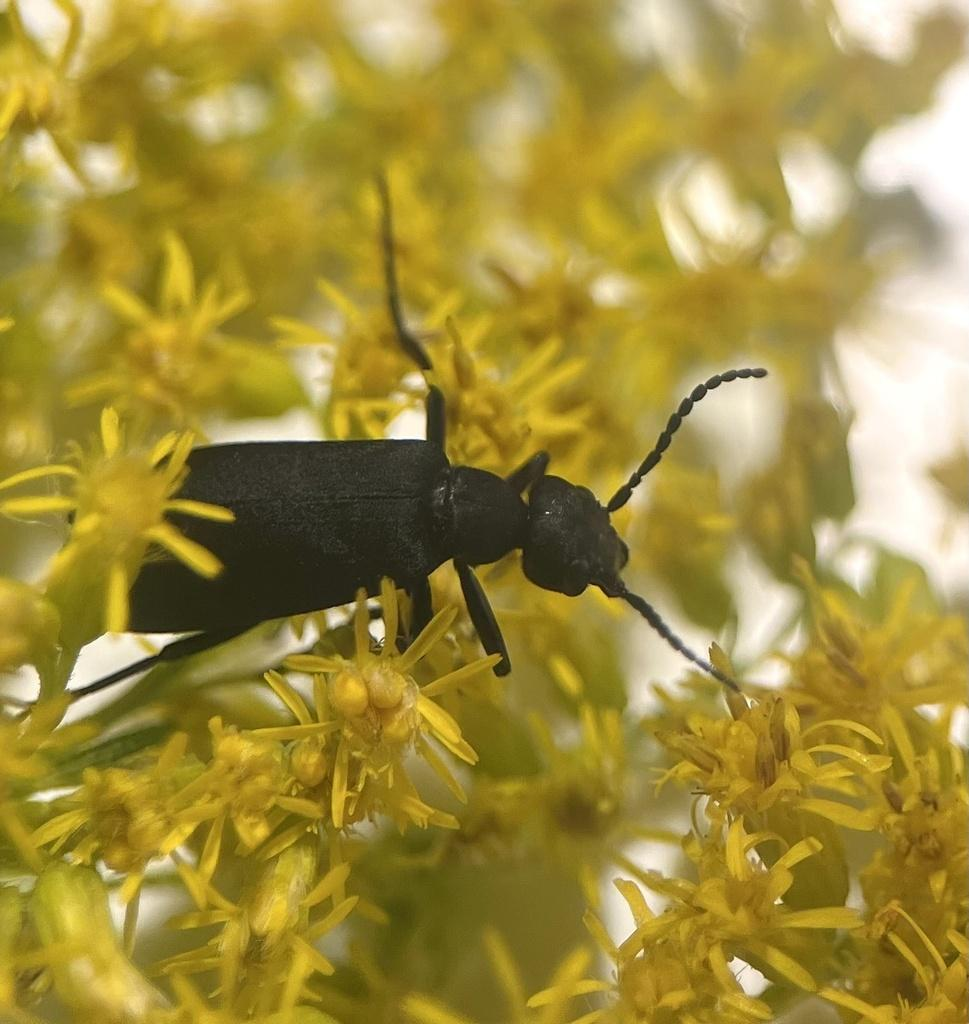blister_beetle: (7, 90, 845, 832)
